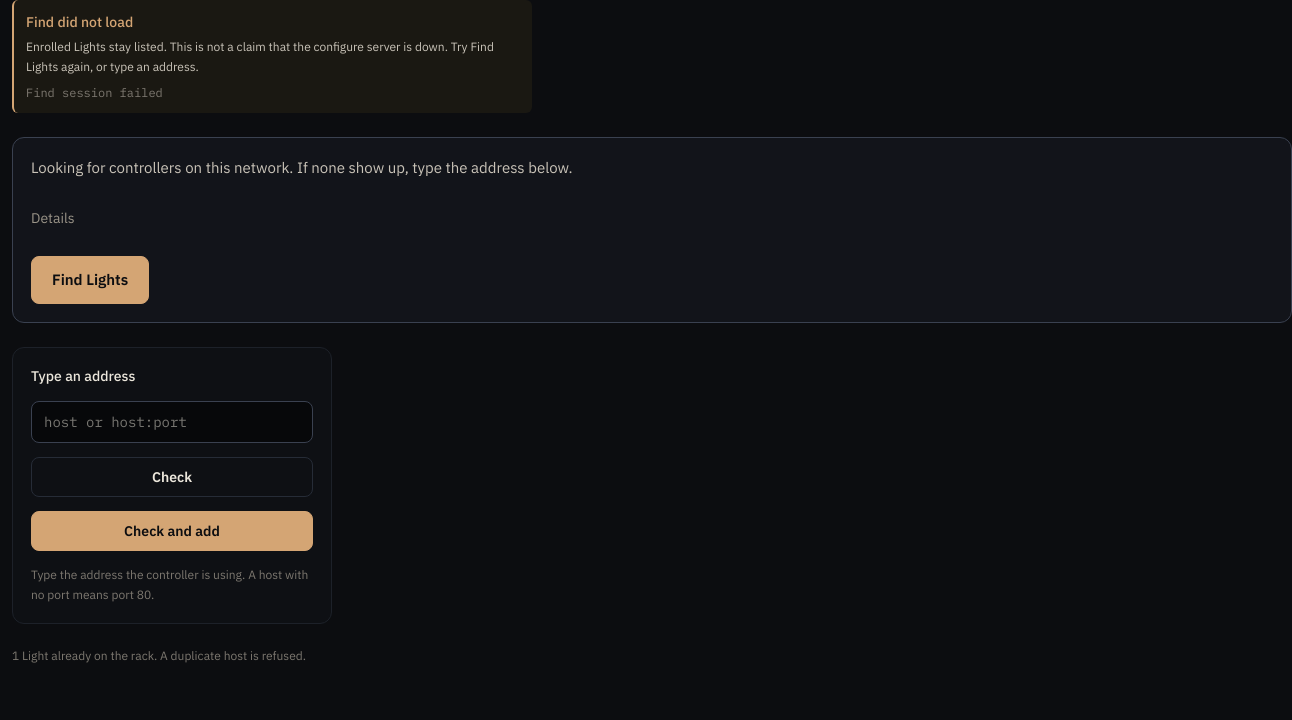
DiscoverPanel Find load miss › clears the Find load miss after Find Lights retries
Step 1. Click the button "Find Lights" → click(90, 280), box [31, 256, 149, 304]
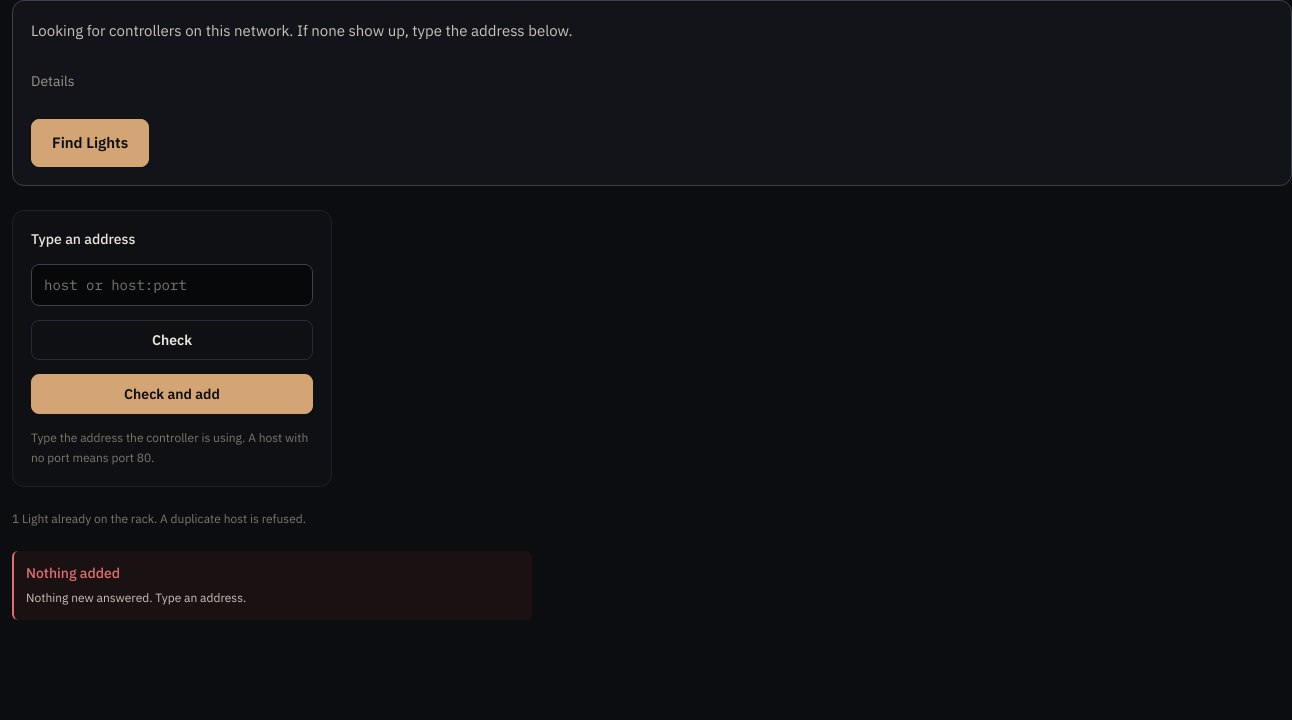
Expected: the button "Find Lights" is shown, [31, 119, 149, 167]
Now the text "Find did not load" is gone
